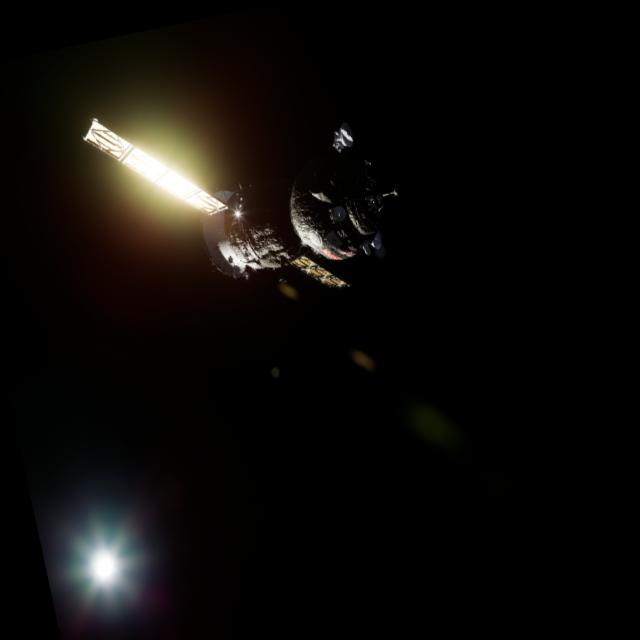Satellites revolving around earth: (76, 55, 418, 341)
